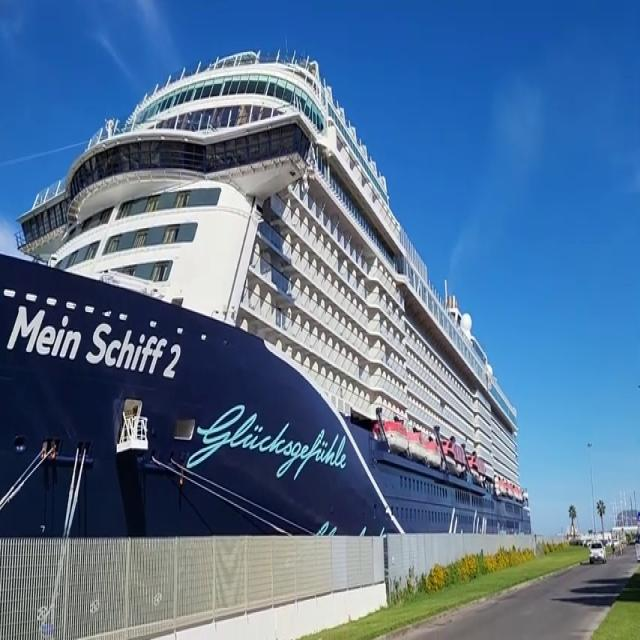passenger ship: (22, 70, 546, 600)
